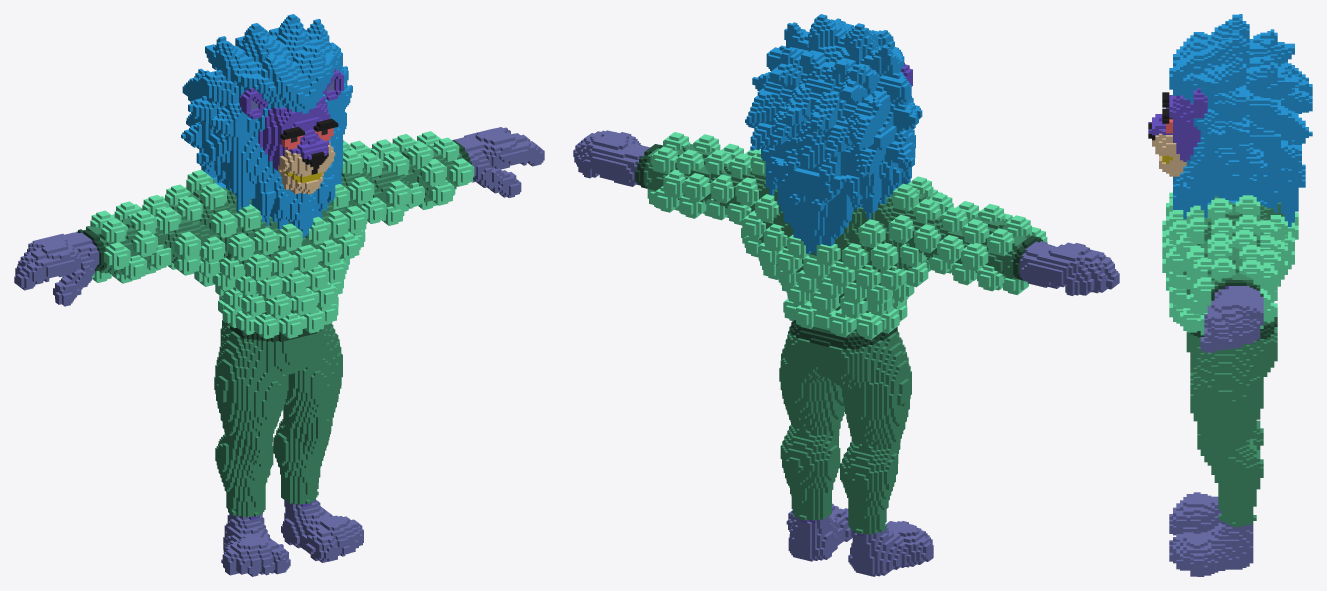
Rendered from 711-BUBBZ9wa.fbx.
3 renders of one model, left to right at view 1: azimuth 30°, elevation 25°; view 2: azimuth 150°, elevation 25°; view 3: azimuth 270°, elevation 25°, orthographic. The views are drawn at different scales.
Parts seen in each view (by area): view 1: gold_smile; view 2: gold_smile; view 3: gold_smile.
Boxes of the visible parts, left/top/right/bottom form: gold_smile: left=14, top=14, right=544, bottom=576; gold_smile: left=573, top=14, right=1119, bottom=576; gold_smile: left=1148, top=14, right=1312, bottom=576.
Size of the model in its own units: 17.2 by 16.5 by 4.7.
5 materials, 5 textured.
